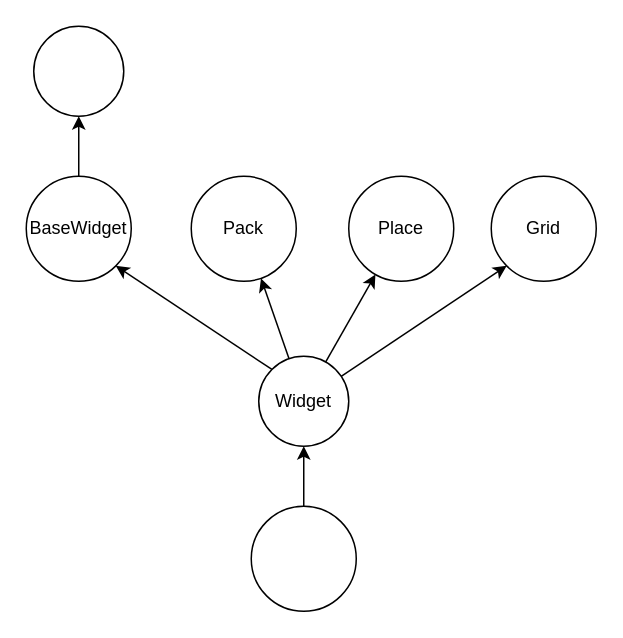
Some shapes in this 623 by 638 pixel diagram are drawn without their labels. The centre of each missing label's shape, as x and y in pixels:
"Label" belongs at point (303, 558).
"Misc" belongs at point (78, 70).
